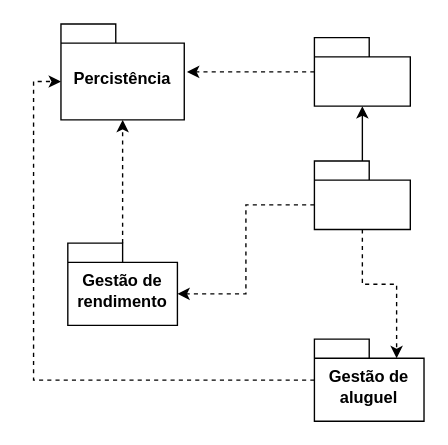
Image size: 448x445. Some labels were removed from this diagram. The centre of each missing label's shape, as x and y in pixels:
UI: (361,71)
Usuário: (361,194)
